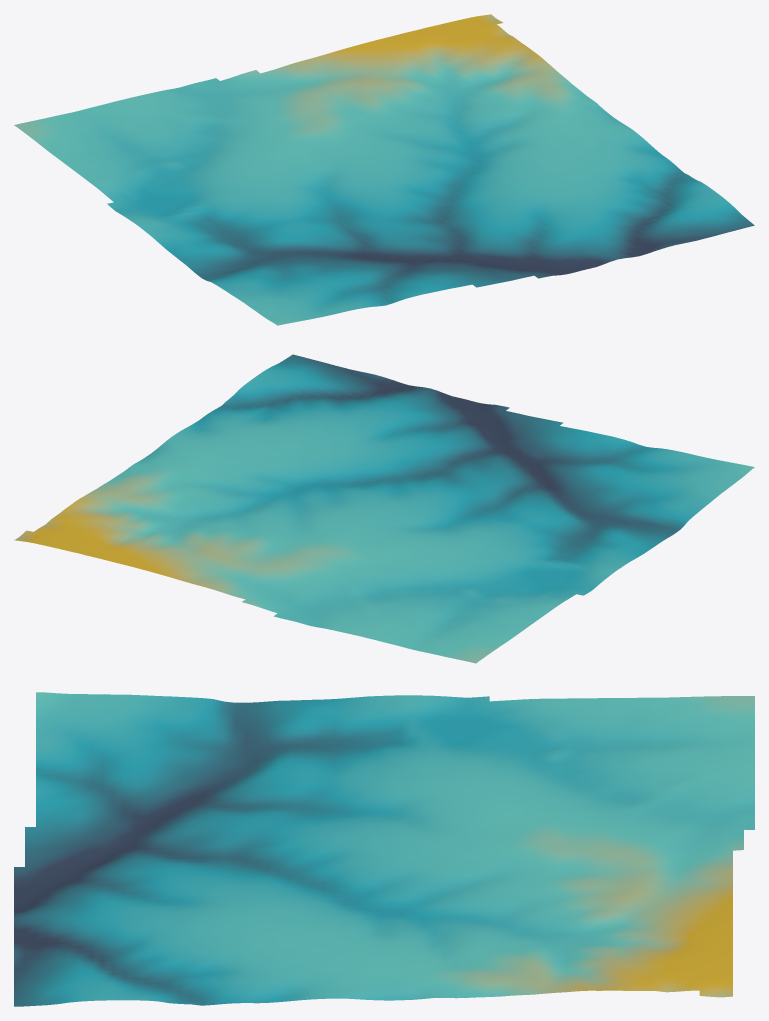
The model's file is terrain.glb.
3 views of the same model, one above another, from view 1: azimuth 30°, elevation 25°; view 2: azimuth 150°, elevation 25°; view 3: azimuth 270°, elevation 25° (orthographic). The views are drawn at different scales.
Parts seen in each view (by area): view 1: terrain-chunk-0000; view 2: terrain-chunk-0000; view 3: terrain-chunk-0000.
Boxes of the visible parts, x1,y1,x2,y2 form: terrain-chunk-0000: (14, 14, 754, 325); terrain-chunk-0000: (14, 354, 754, 663); terrain-chunk-0000: (14, 692, 754, 1006).
Size of the model in its own units: 2029 by 68.25 by 2060.
